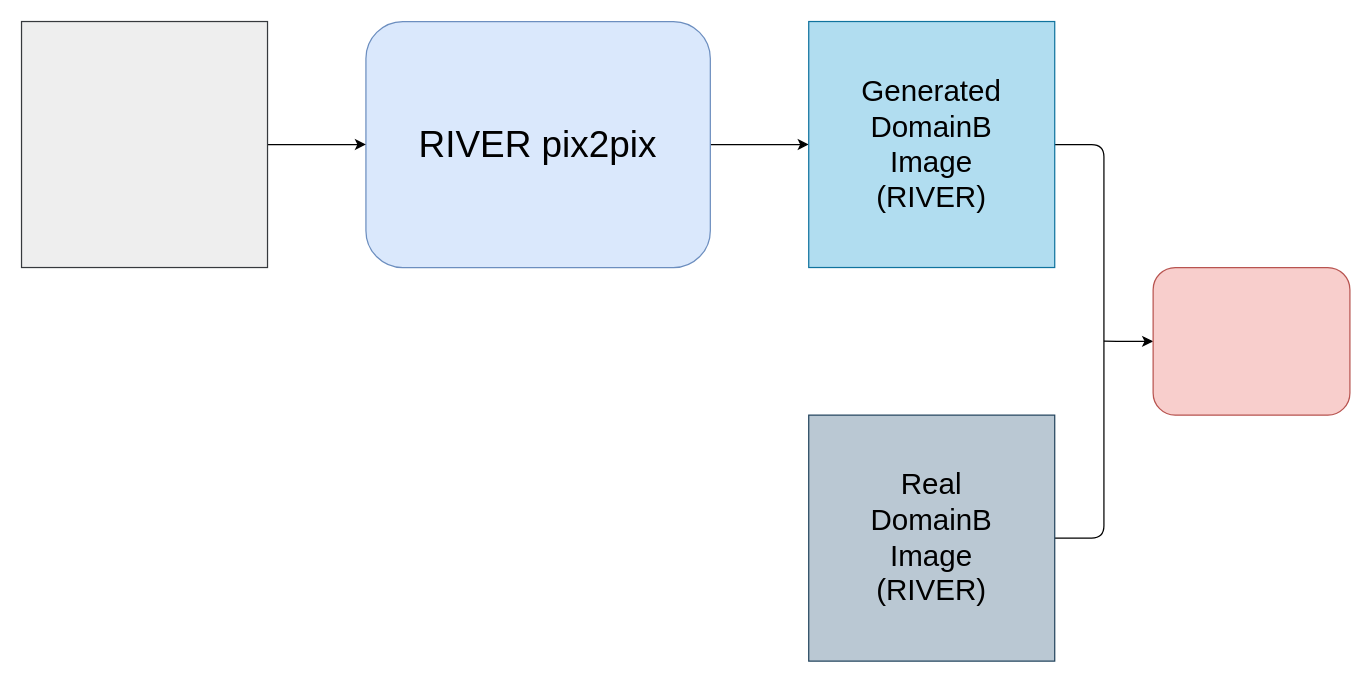
Some shapes in this 1371 by 683 pixel diagram are drawn without their labels. The shapes that lost their labels are listed below. From the top down, each one's centre as x and y in pixels, then its label:
At [144,144]: "DomainA Image (RIVER)".
At [1251,340]: "Discriminator".
